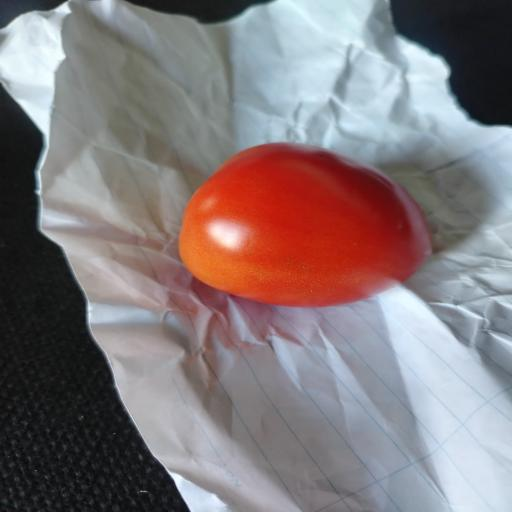ripe: (179, 143, 431, 307)
